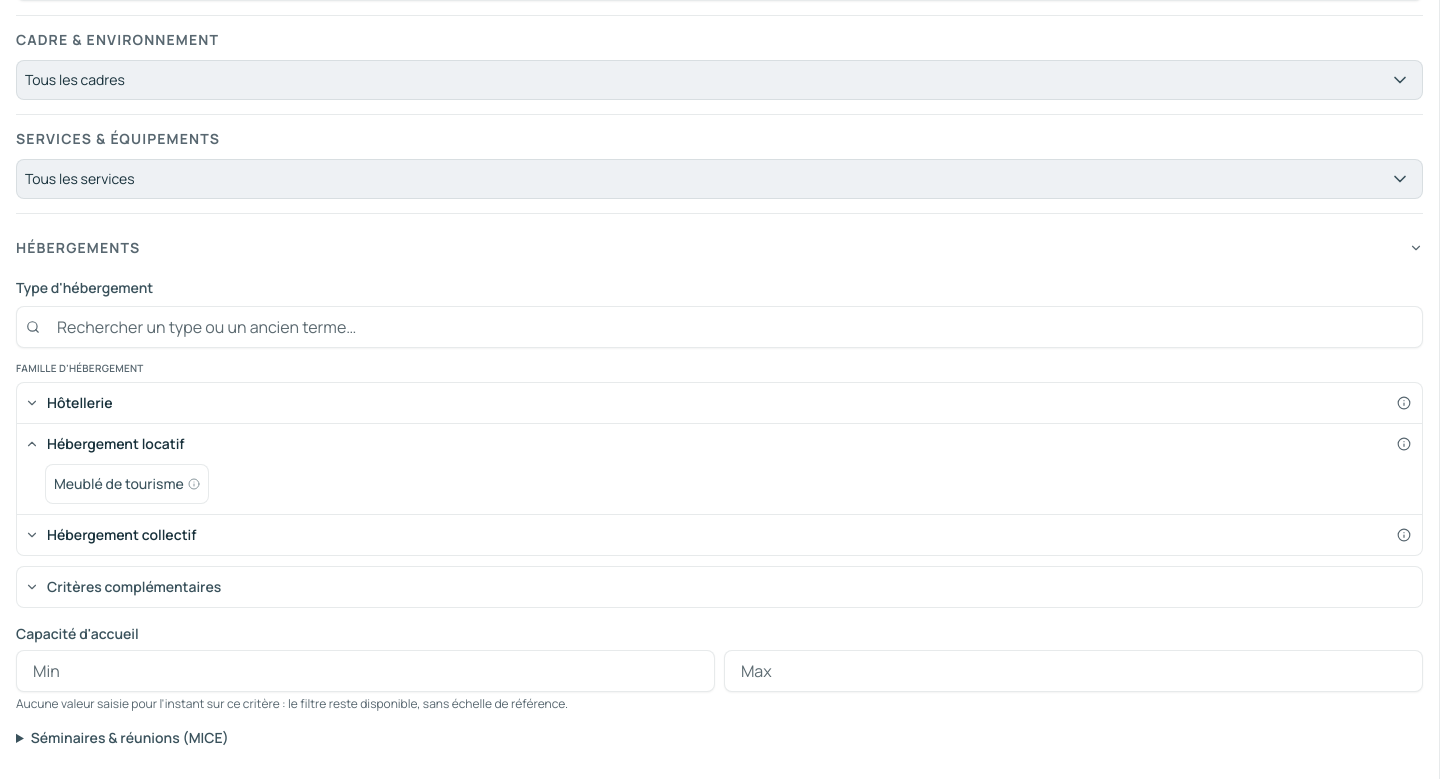
Test case: FiltersPanel — sections type-spécifiques repliables › n'affiche qu'un seul axe Type d'unité dans les critères complémentaires
The image size is (1440, 779).
(page scrolled)
Expected: the button "Maison / villa" is not shown
Click the button "Critères complémentaires" at (134, 586), box left=17, top=567, right=1422, bottom=607
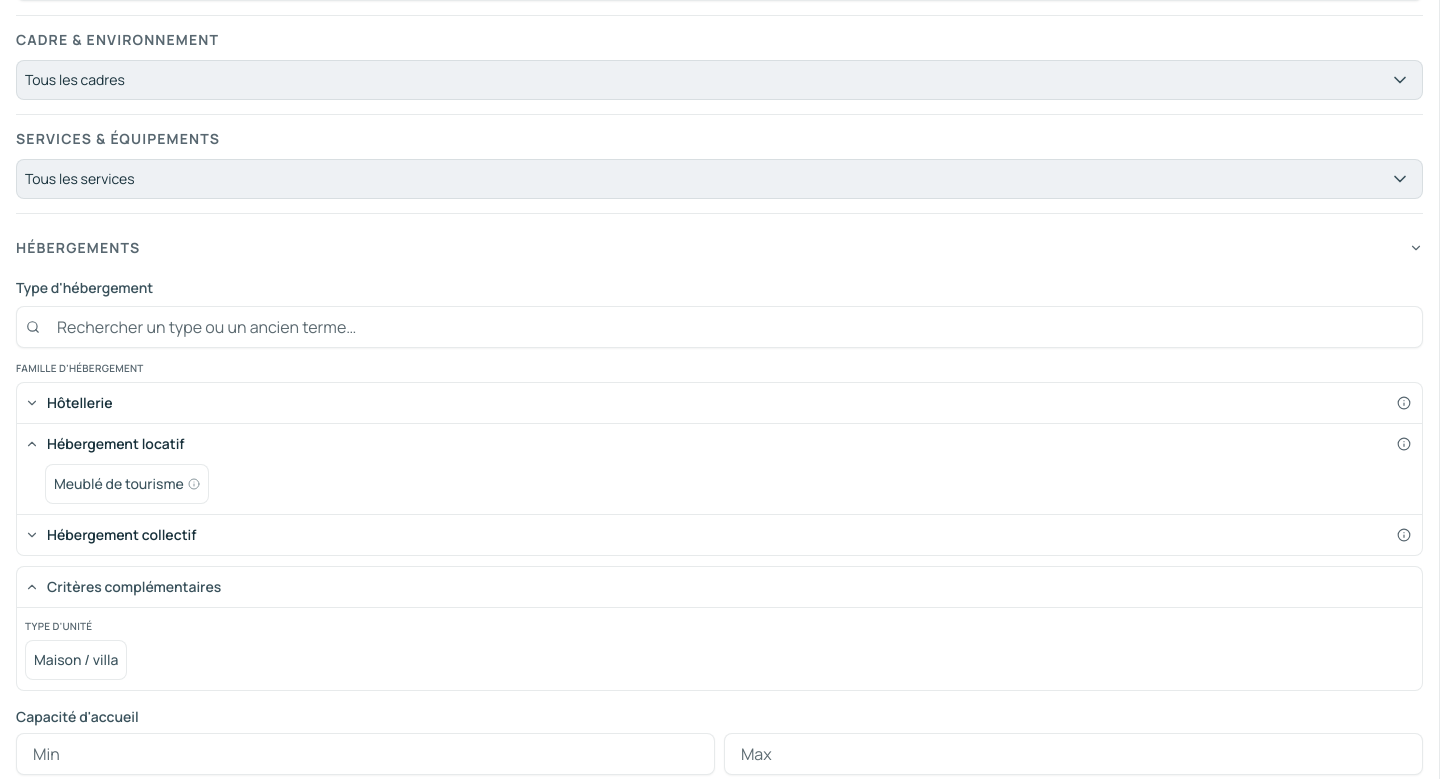
Result: the text "Type d'unité" is shown at left=25, top=619, right=92, bottom=633
Result: the button "Maison / villa" is shown at left=25, top=640, right=127, bottom=680
